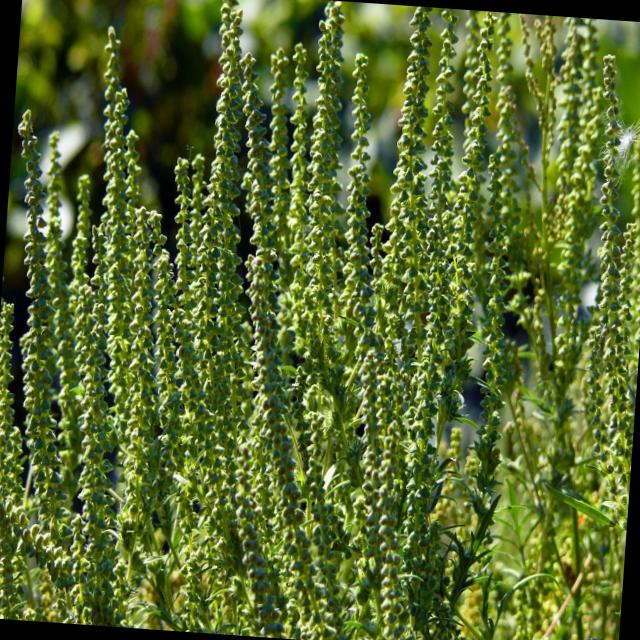ambrosia: (371, 10, 495, 616), (265, 0, 402, 511), (155, 0, 255, 534), (60, 9, 164, 490), (0, 91, 79, 531), (496, 19, 640, 226), (555, 258, 640, 514)
